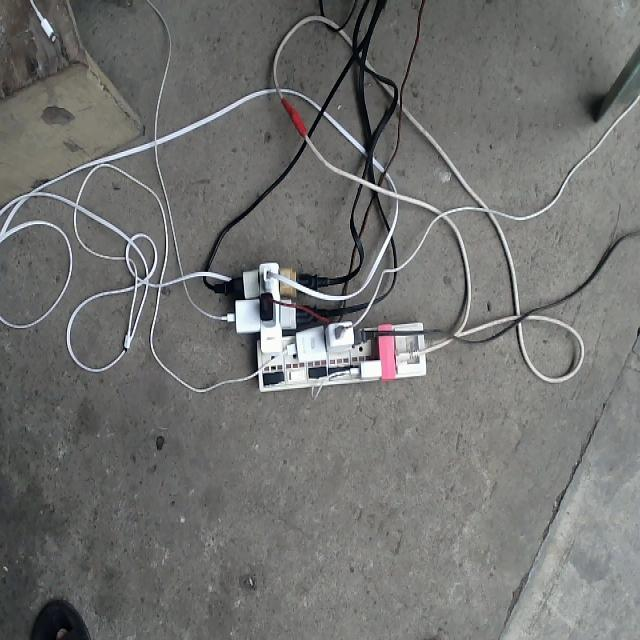-: (211, 261, 425, 391)
